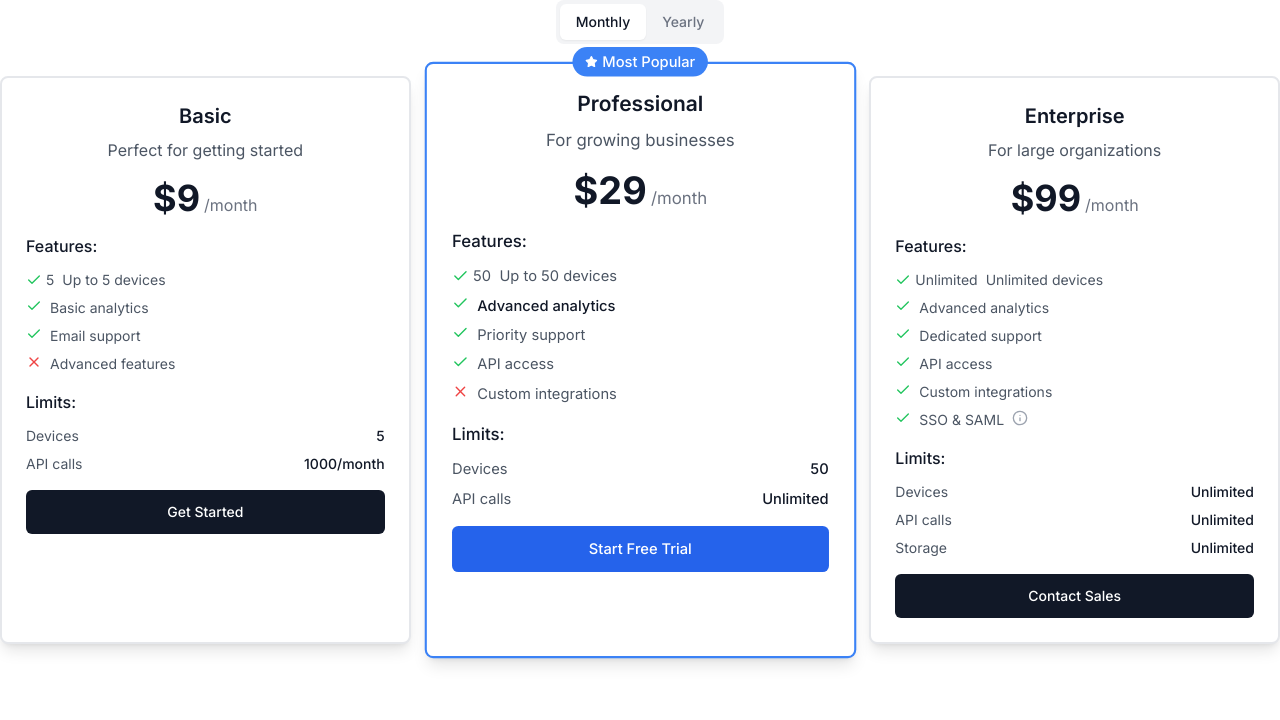
it: PricingTable Component › Tooltips › shows tooltip on hover
Hover over the icon with class "cursor-help" at (1020, 418), box x1=1012 y1=410 x2=1028 y2=426
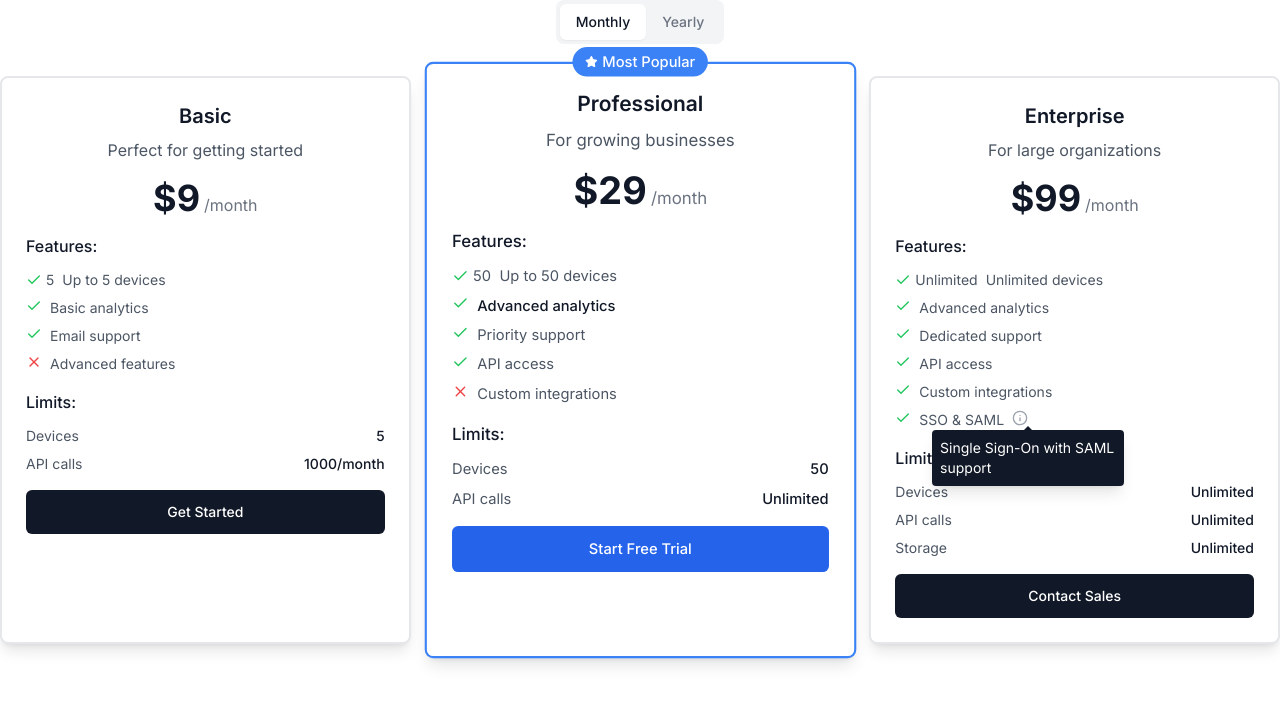
Expected: the text "Single Sign-On with SAML support" is shown, x1=932 y1=430 x2=1124 y2=486
